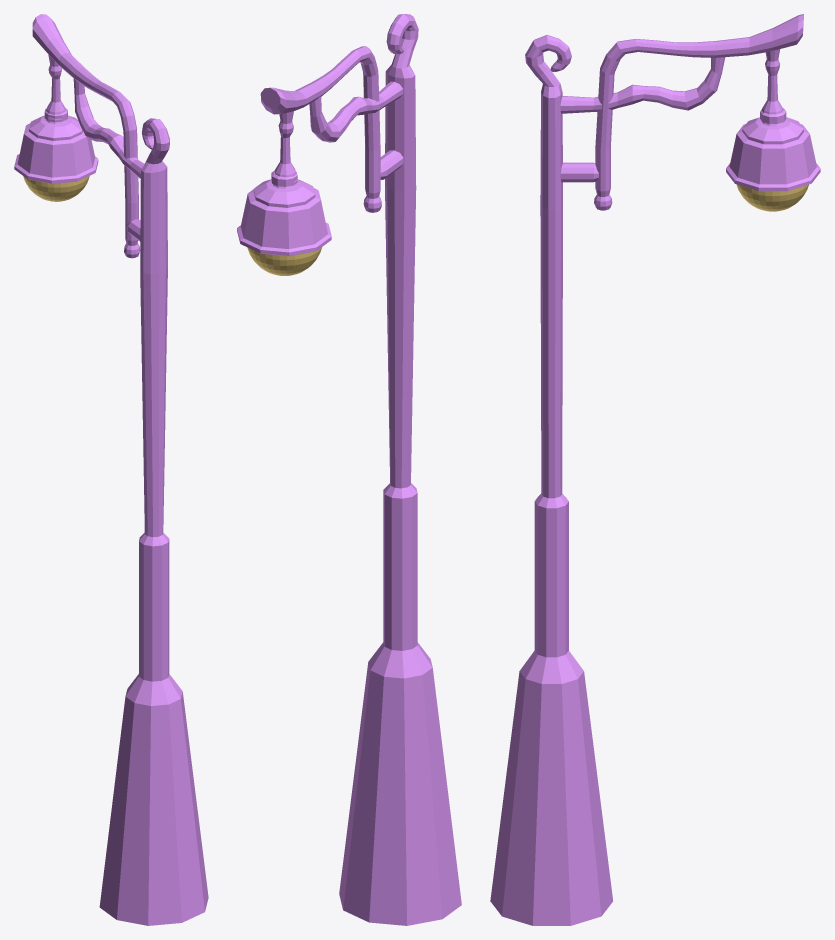
The model's file is lampadaire.fbx.
The picture shows the model from 3 angles, left to right: view 1: azimuth 30°, elevation 25°; view 2: azimuth 150°, elevation 25°; view 3: azimuth 270°, elevation 25°; orthographic projection. The views are drawn at different scales.
Visible parts, largest first — view 1: Circle, Circle.001, Circle.002; view 2: Circle, Circle.001, Circle.002; view 3: Circle, Circle.001, Circle.002.
Boxes of the visible parts, left/top/right/bottom form: Circle: left=99, top=532, right=208, bottom=925; Circle.001: left=32, top=14, right=169, bottom=537; Circle.002: left=14, top=108, right=98, bottom=201; Circle: left=339, top=483, right=461, bottom=925; Circle.001: left=260, top=14, right=418, bottom=488; Circle.002: left=237, top=170, right=331, bottom=275; Circle: left=490, top=494, right=612, bottom=925; Circle.001: left=525, top=14, right=803, bottom=498; Circle.002: left=726, top=108, right=820, bottom=211.
Bounding box in the file's own units: 190 × 1592 × 537.
